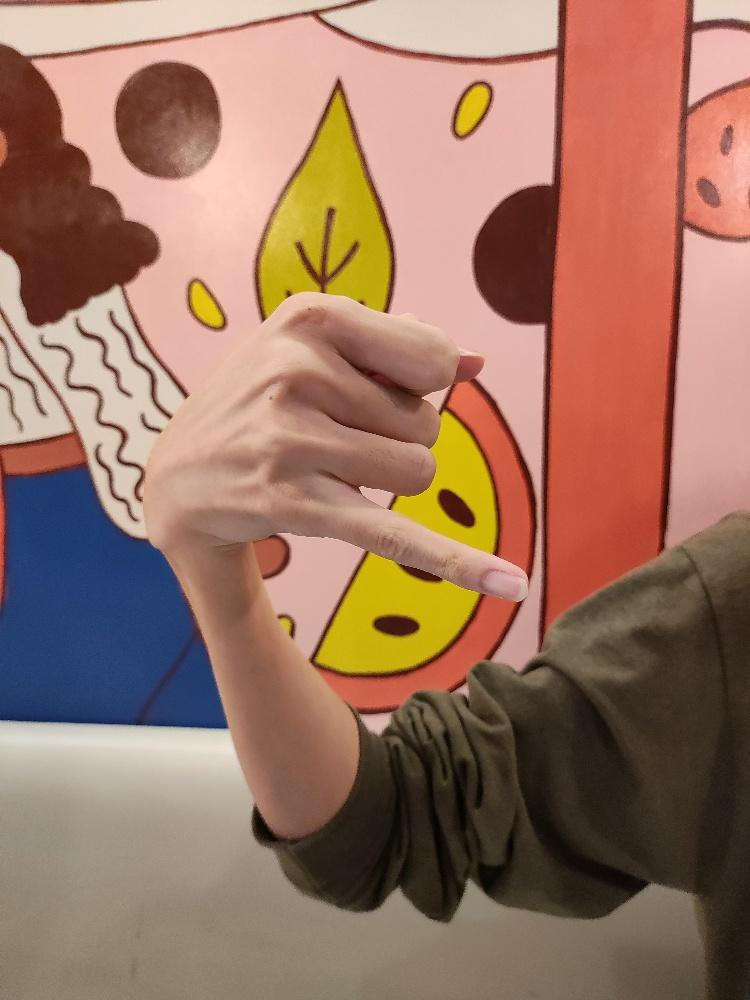j: (137, 285, 535, 606)
